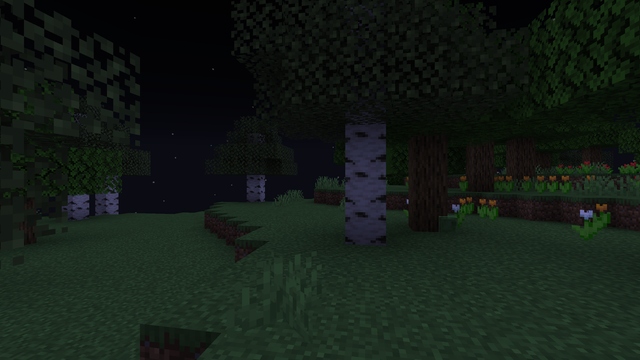slimes: (437, 214, 459, 234)
